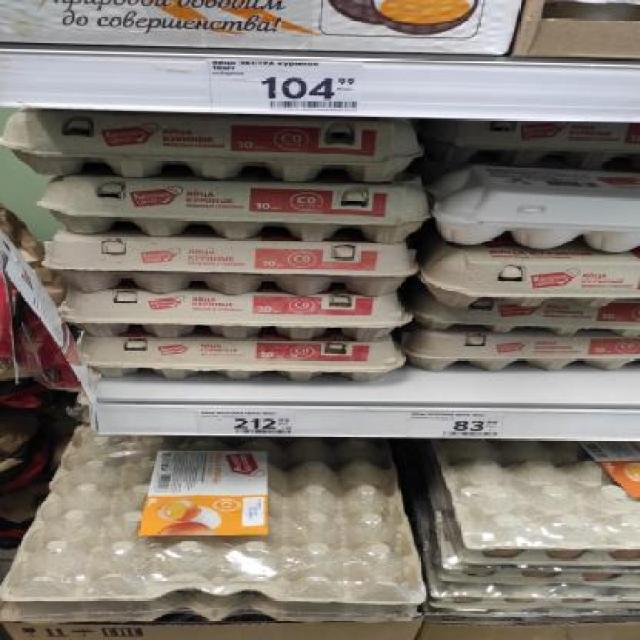egg: (0, 108, 426, 178), (36, 178, 430, 240), (41, 238, 417, 292), (57, 292, 414, 341), (437, 168, 640, 254), (75, 337, 408, 380), (408, 331, 640, 372), (411, 295, 640, 333)
